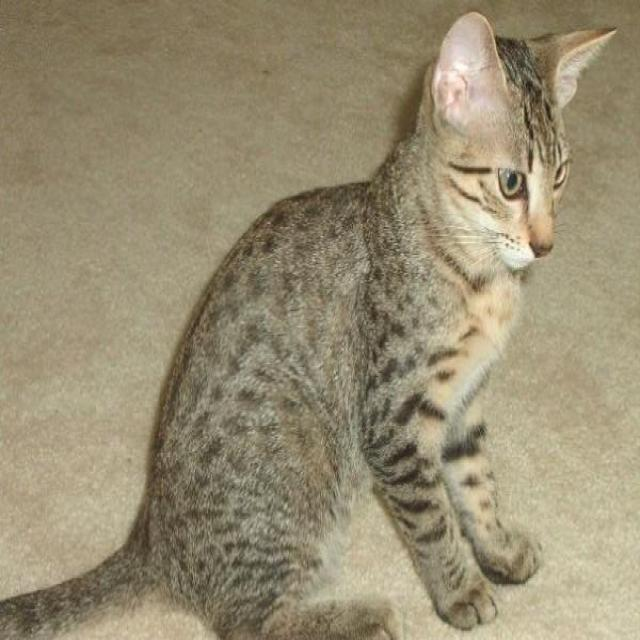Egyptian_Mau: (418, 0, 626, 269)
